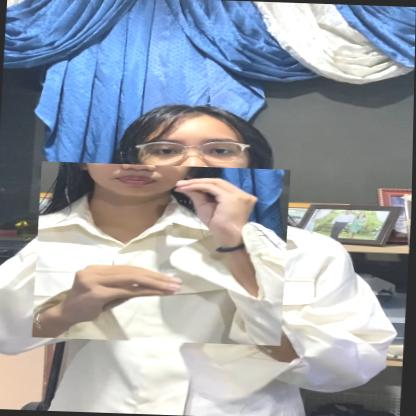Fix: (33, 162, 292, 346)
